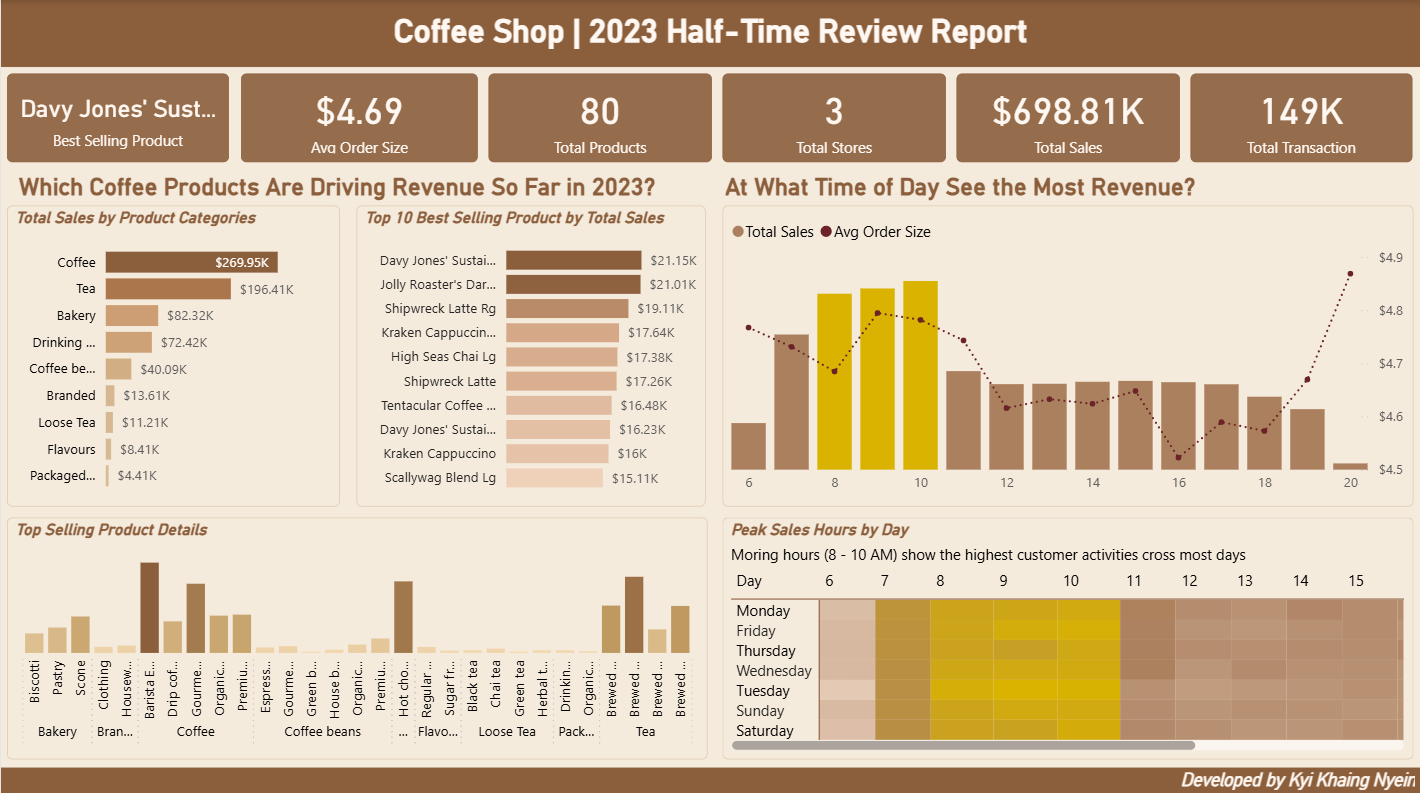

This screenshot's page, from the dashboard's own definition file:
{"tool":"powerbi","page":{"name":"Page 1","canvas":[1280,720],"ordinal":0},"visuals":[{"type":"textbox","box":[290.7,6.1,698,46.9],"z":0},{"type":"card","fields":{"Values":["Min(Product_Dim.product_detail)"]},"box":[6.1,66.6,199.9,80.3],"z":1000},{"type":"card","fields":{"Values":["Measure Table.Total Transaction"]},"box":[1072.1,66.6,199.9,80.3],"z":2000},{"type":"card","fields":{"Values":["Measure Table.Total Sales"]},"box":[861,66.6,201.4,80.3],"z":3000},{"type":"card","fields":{"Values":["Measure Table.Total Stores"]},"box":[649.9,66.6,201.4,80.3],"z":4000},{"type":"card","fields":{"Values":["Measure Table.Total Products"]},"box":[438.8,66.6,201.4,80.3],"z":5000},{"type":"card","fields":{"Values":["Measure Table.Avg Order Size"]},"box":[215.6,66.6,213.5,80.3],"z":6000},{"type":"textbox","box":[6.1,149.9,598.1,36.3],"z":7000},{"type":"textbox","box":[648.1,149.9,598.1,36.3],"z":8000},{"type":"clusteredBarChart","title":"Total Sales by Product Categories","fields":{"Category":["Product_Dim.product_category"],"Y":["Measure Table.Total Sales"]},"box":[6.1,185.2,299.8,271],"z":9000},{"type":"clusteredBarChart","title":"Top 10 Best Selling Product by Total Sales","fields":{"Y":["Measure Table.Total Sales"],"Category":["Product_Dim.product_detail"]},"box":[320.3,185.2,315,271],"z":10000},{"type":"clusteredColumnChart","title":"Top Selling Product Details","fields":{"Category":["Product_Dim.product_category","Product_Dim.product_type"],"Y":["Measure Table.Total Sales"]},"box":[6.1,466.4,631.4,218],"z":11000},{"type":"lineClusteredColumnComboChart","title":"Top 10 Best Selling Product by Total Sales","fields":{"Y":["Measure Table.Total Sales"],"Category":["Coffee_Sales_Fact.Hour"],"Y2":["Measure Table.Avg Order Size"]},"box":[649.6,185.2,622.3,271],"z":12000},{"type":"textbox","box":[998.8,686.7,281.2,31.1],"z":13000},{"type":"pivotTable","title":"Peak Sales Hours by Day","fields":{"Rows":["Date_Dim.Day Name"],"Values":["Measure Table.Total Sales"],"Columns":["Coffee_Sales_Fact.Hour"]},"box":[649.6,466.4,622.3,218],"z":14000}]}

Visuals, with their boxes in screenshot pixels (x1, y1, x2, y2), scaled from the page's 1280x720 canvas onto the 1420x793 screenshot:
textbox: crop(322, 7, 1097, 58)
card - Min(Product_Dim.product_detail): crop(7, 73, 229, 162)
card - Measure Table.Total Transaction: crop(1189, 73, 1411, 162)
card - Measure Table.Total Sales: crop(955, 73, 1179, 162)
card - Measure Table.Total Stores: crop(721, 73, 944, 162)
card - Measure Table.Total Products: crop(487, 73, 710, 162)
card - Measure Table.Avg Order Size: crop(239, 73, 476, 162)
textbox: crop(7, 165, 670, 205)
textbox: crop(719, 165, 1383, 205)
"Total Sales by Product Categories" clusteredBarChart: crop(7, 204, 339, 502)
"Top 10 Best Selling Product by Total Sales" clusteredBarChart: crop(355, 204, 705, 502)
"Top Selling Product Details" clusteredColumnChart: crop(7, 514, 707, 754)
"Top 10 Best Selling Product by Total Sales" lineClusteredColumnComboChart: crop(721, 204, 1411, 502)
textbox: crop(1108, 756, 1419, 791)
"Peak Sales Hours by Day" pivotTable: crop(721, 514, 1411, 754)
